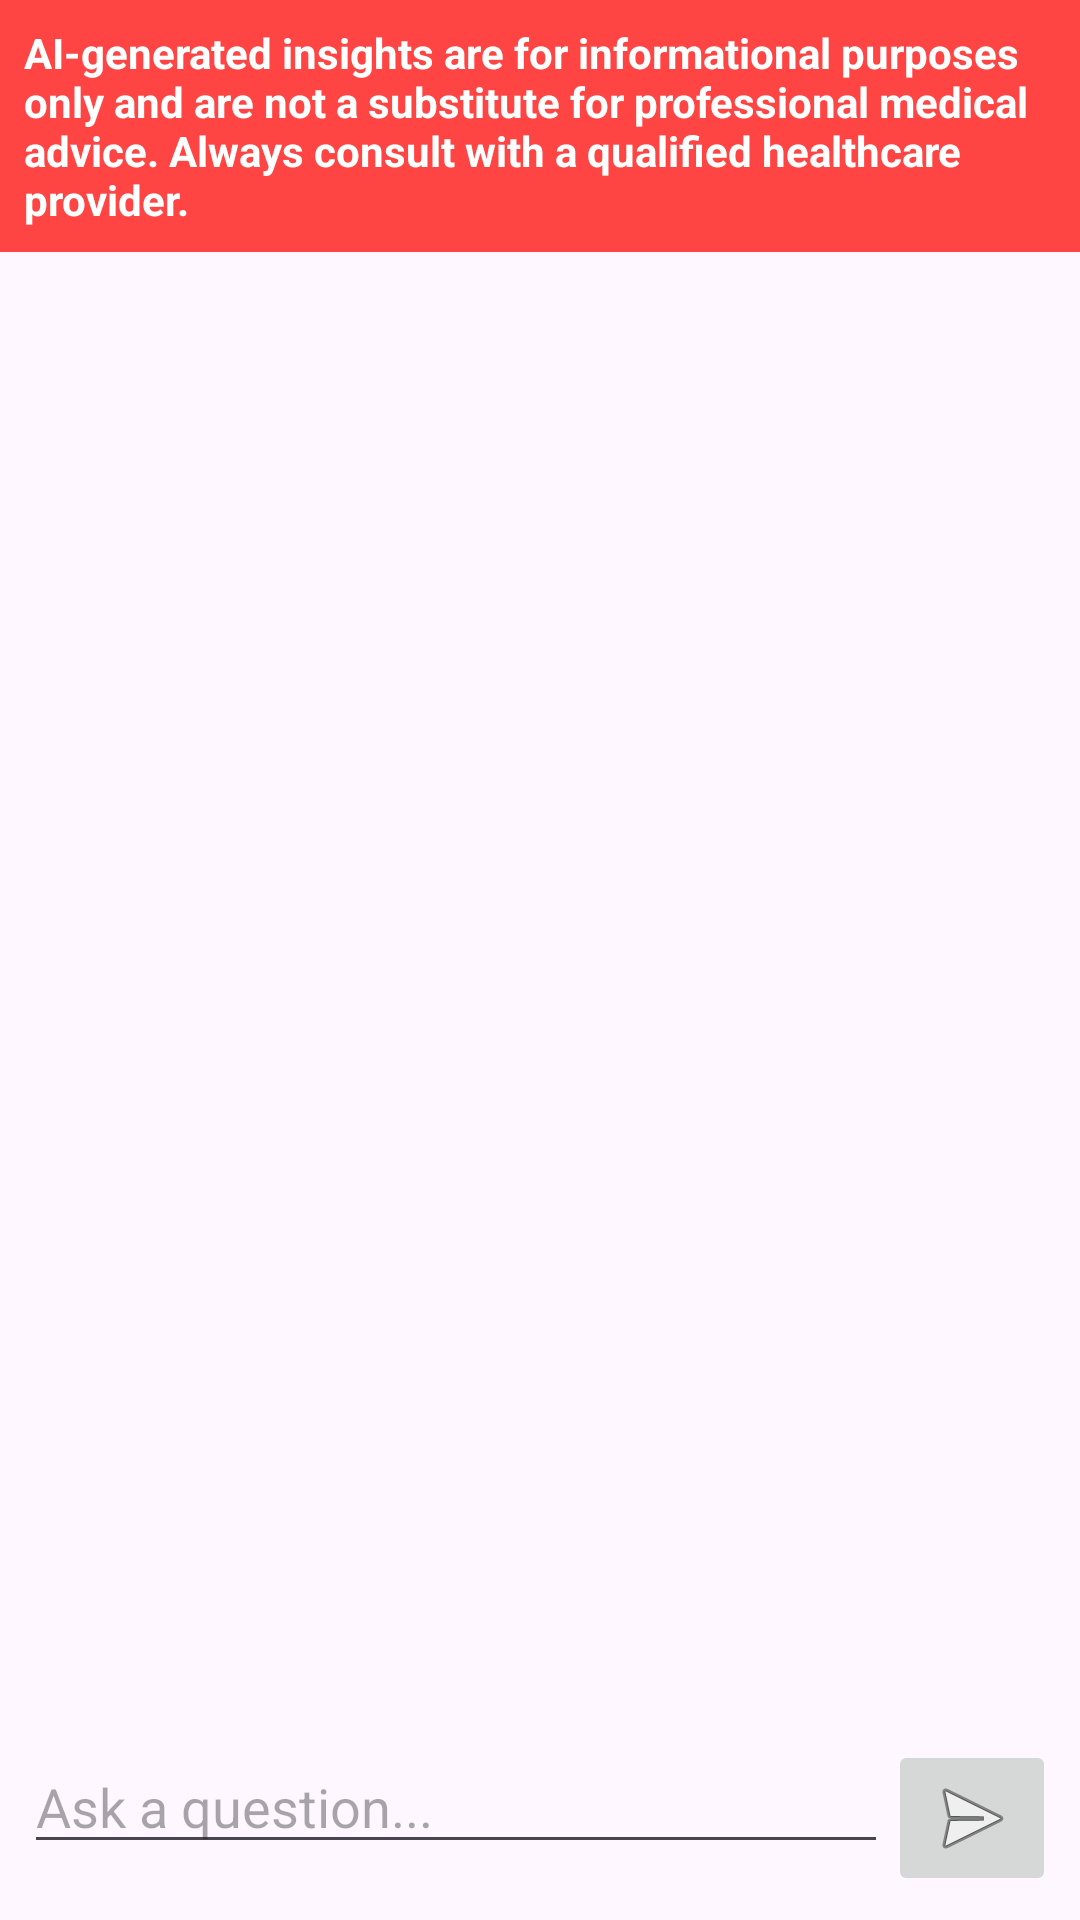

Where to tap for icons on this 1080 × 1920 app screen, as (x=x, y=y):
send: (x=972, y=1818)
